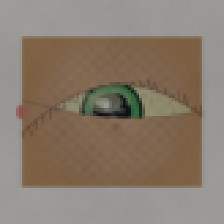corneal_ulcer: (79, 81, 133, 124)
